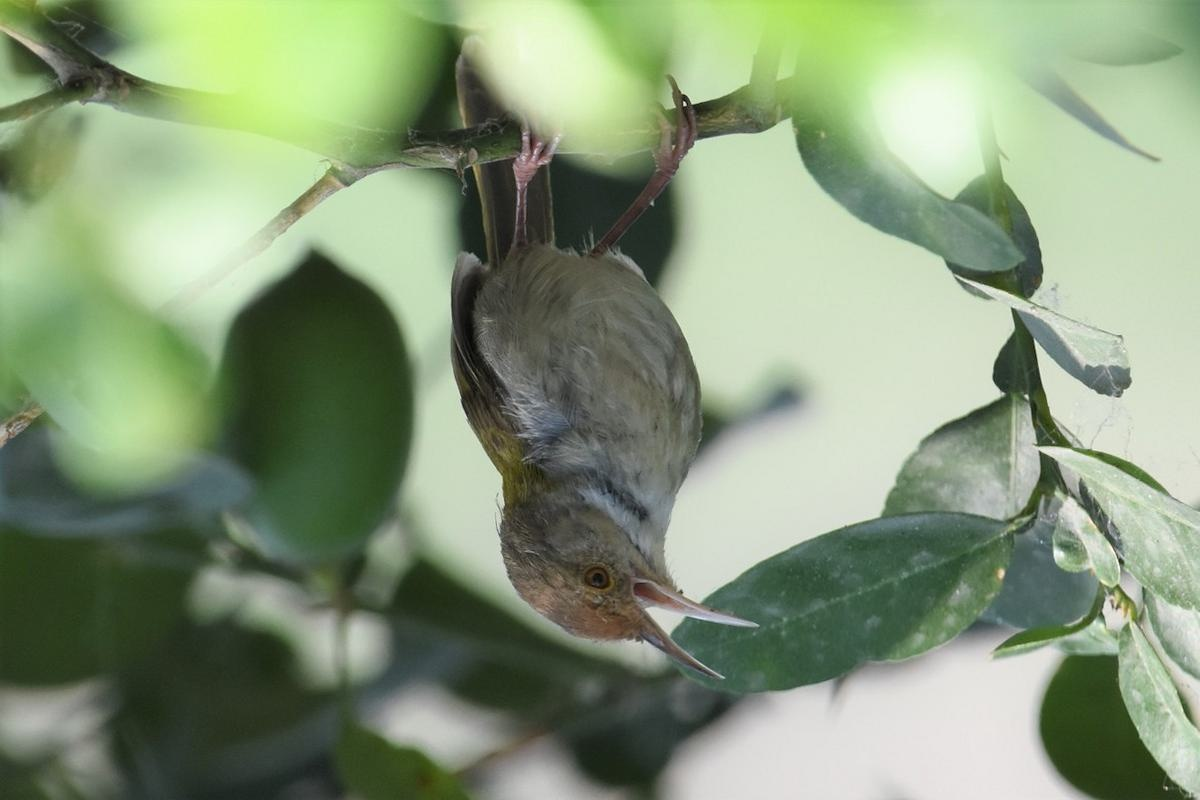tailorbird: (435, 71, 758, 683)
